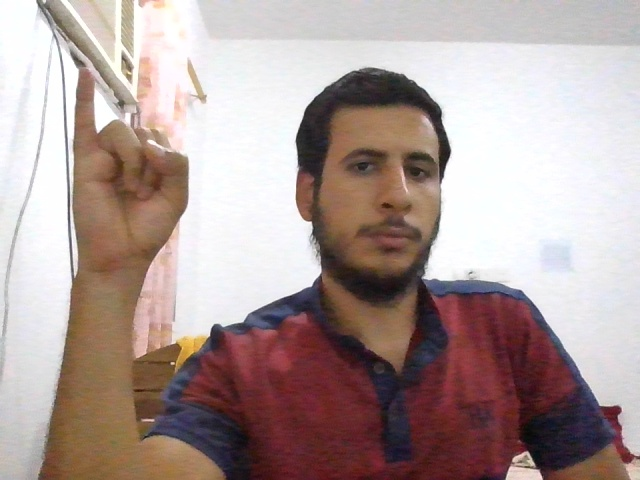One: (74, 68, 192, 261)
